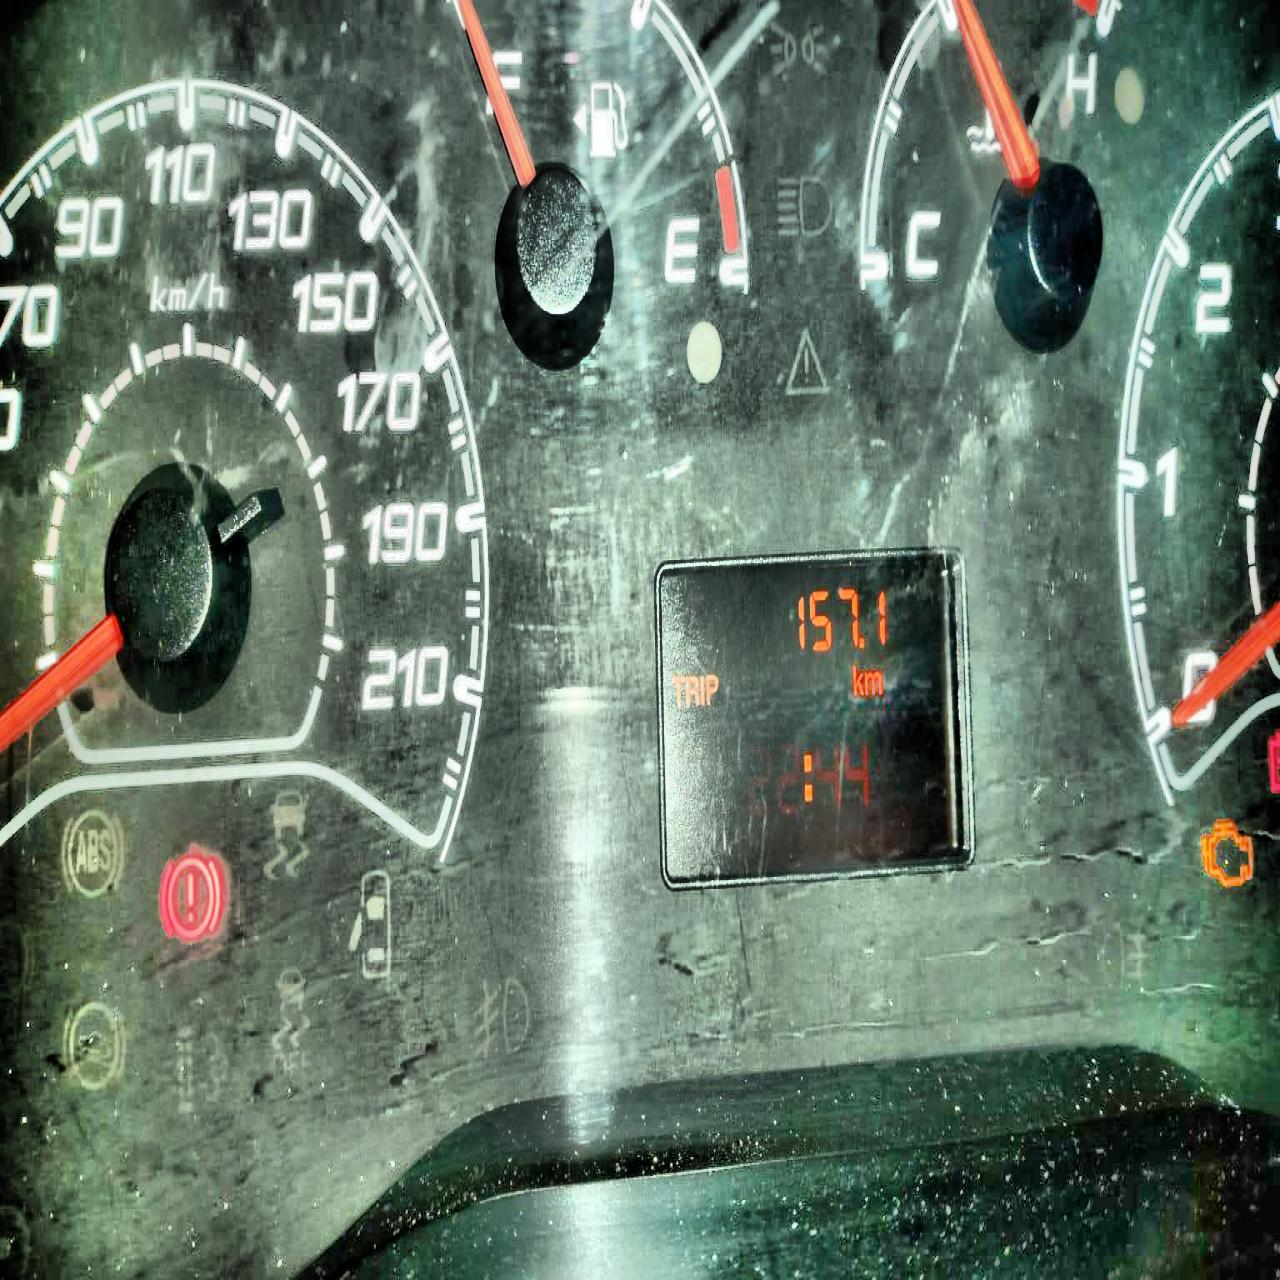-: (858, 634, 865, 649)
1: (877, 588, 886, 646), (797, 594, 805, 649)
5: (809, 588, 832, 651)
7: (837, 587, 858, 646)
X: (802, 750, 813, 803), (670, 674, 685, 710), (864, 669, 883, 696), (685, 674, 699, 707), (704, 673, 719, 706), (852, 663, 863, 696), (699, 673, 704, 707)
odometer: (653, 540, 975, 893)
